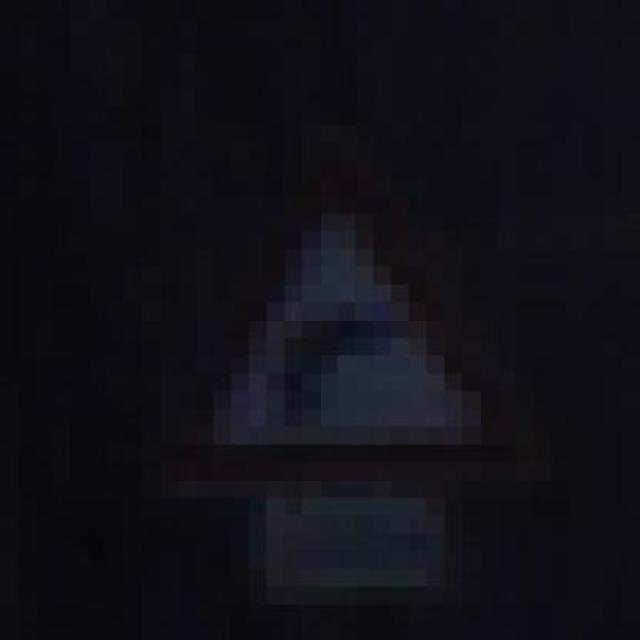Dangerous Rright Curve Ahead: (160, 124, 515, 516)
